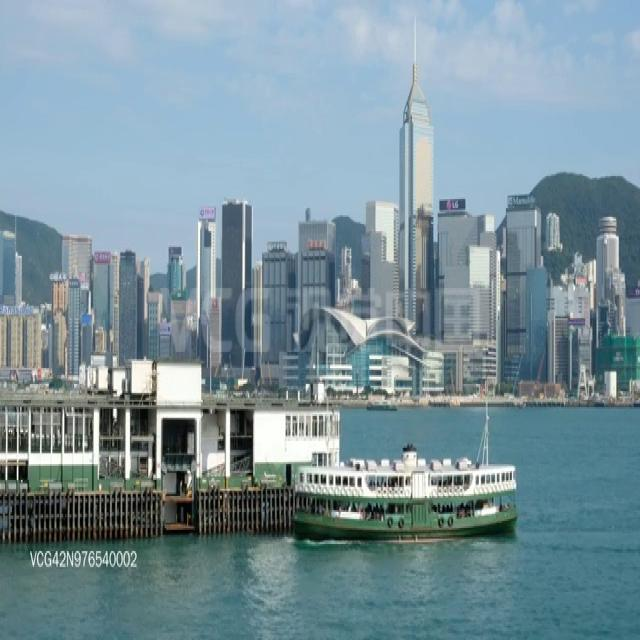passenger ship: (296, 434, 517, 546)
